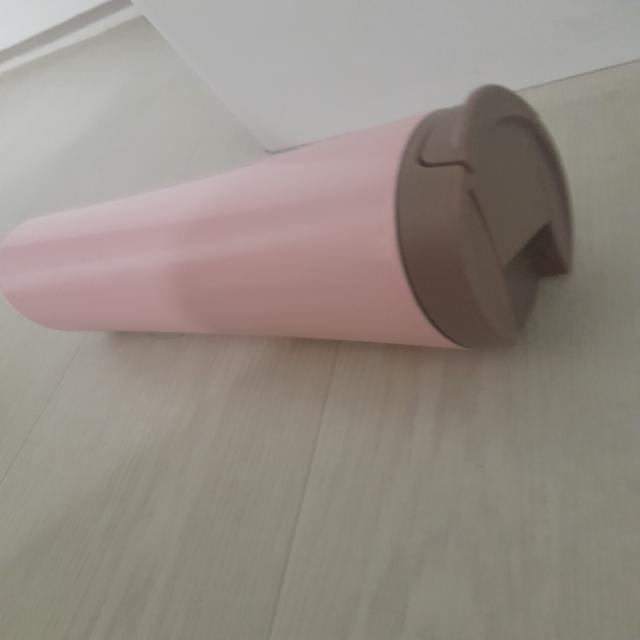waterbottle: (9, 85, 572, 352)
